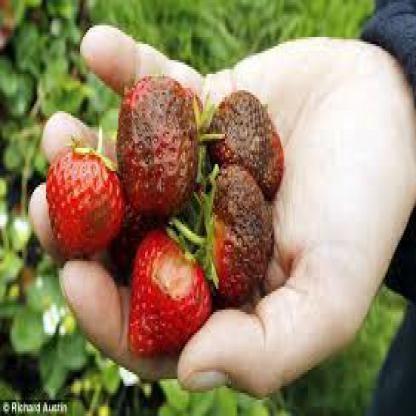strawberry_rotten: (46, 67, 312, 349)
